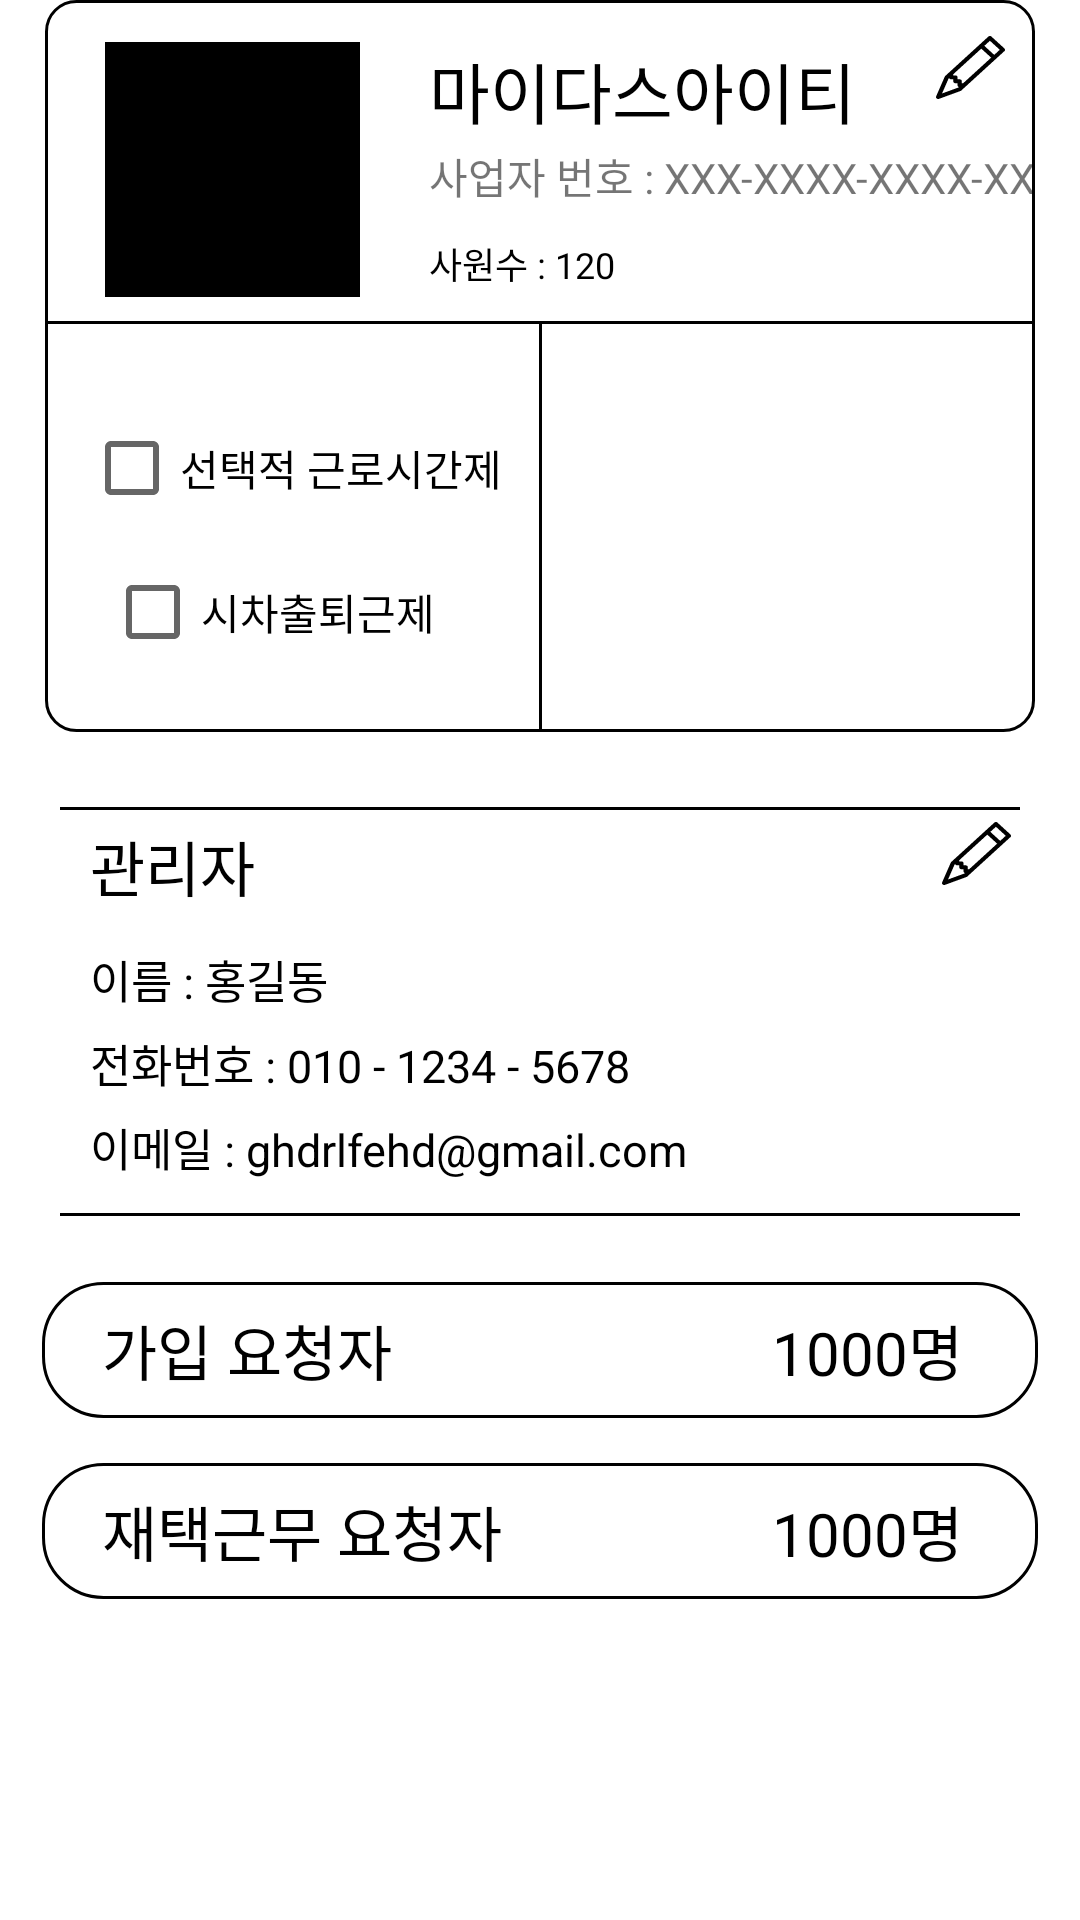

Where to tap for icons on this 1080w x 1920h app screen, as (x=x, y=y):
edit: (x=970, y=67), (x=976, y=853)
